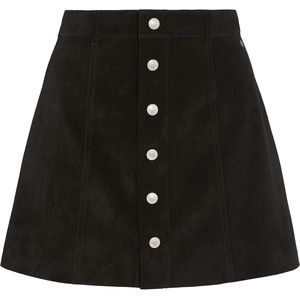gamuza: (1, 10, 300, 290)
